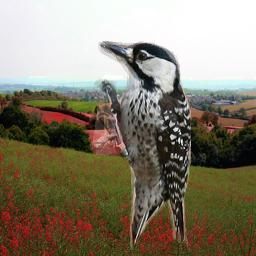Woodpecker: (91, 41, 191, 250)
